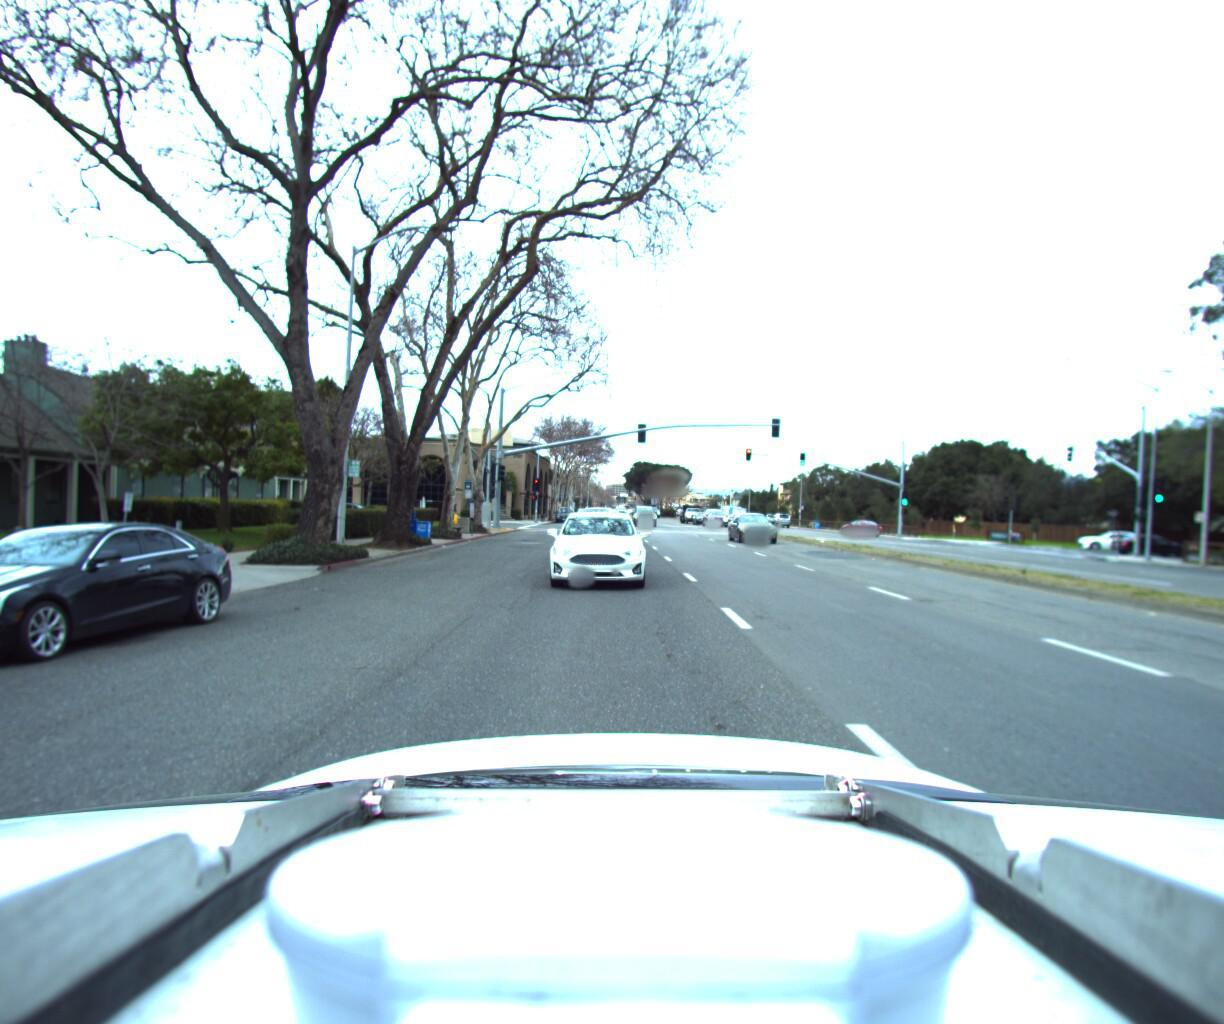car: (538, 501, 647, 597), (1114, 523, 1205, 550), (729, 505, 786, 542), (1073, 521, 1153, 544), (836, 509, 878, 528), (701, 499, 730, 520), (629, 497, 655, 519)
